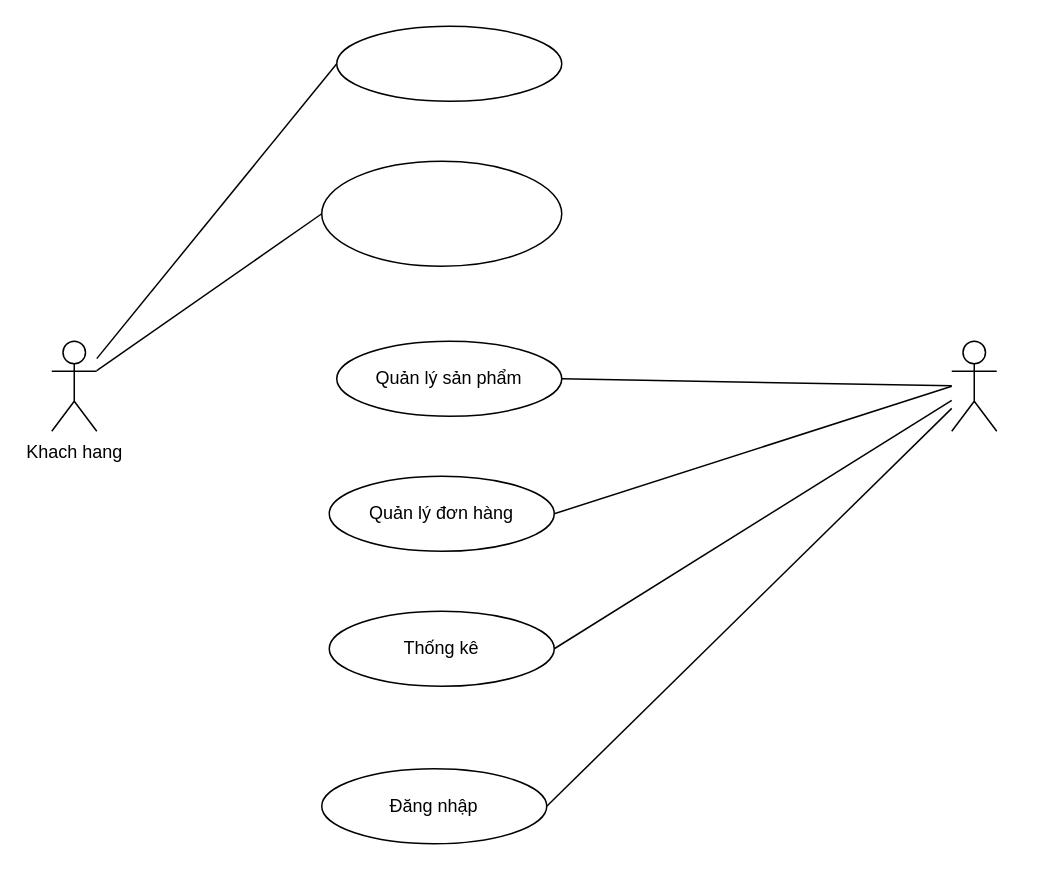
Image size: 1055x870. Some labels were removed from this diagram. Here are the shapes that lost their labels. From the top down, the centre of each, then its label:
point 448,63: Quản lý giỏ hàng
point 441,213: Xem danh sách sản phẩm
point 973,385: Nguoi quan ly
